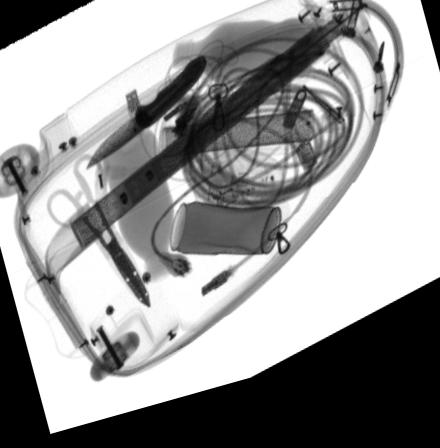Knife: (86, 64, 205, 173)
Scissors: (48, 158, 149, 318)
